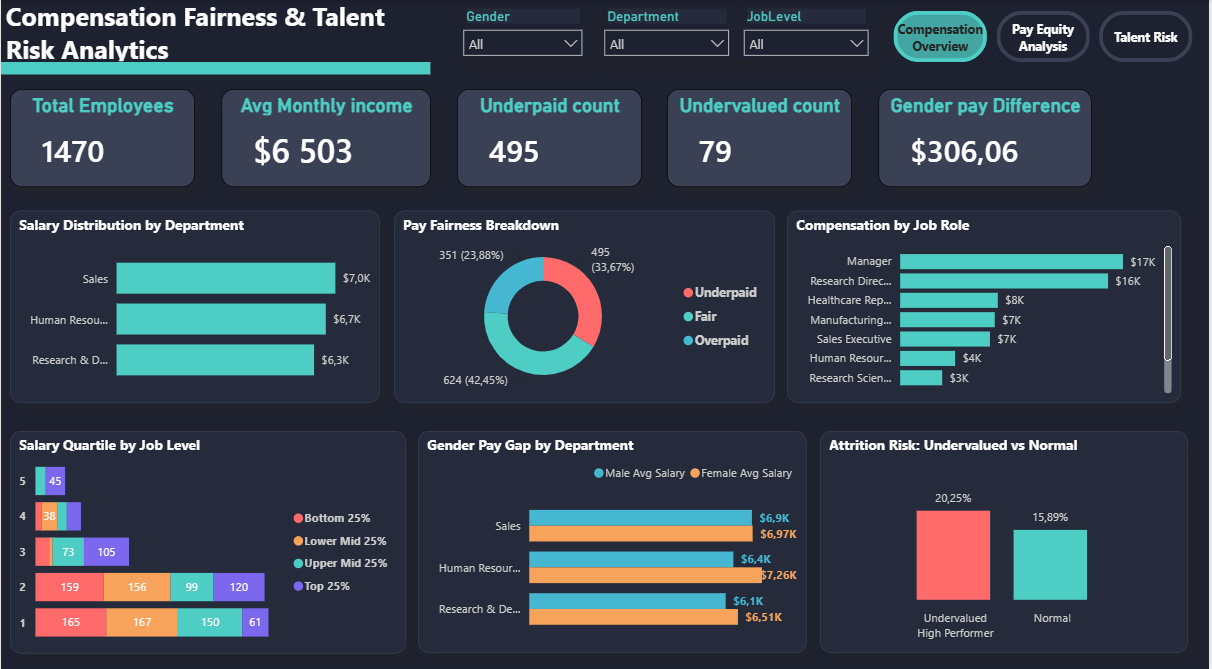

Layout of this report page (visuals, bound fields, positions):
{"tool":"powerbi","page":{"name":"Compensation Overview","canvas":[1280,720],"ordinal":0},"visuals":[{"type":"textbox","title":"Compensation Fairness & Talent Risk Analytics","box":[0,0,455.4,66.1],"z":0},{"type":"cardVisual","title":"Avg Monthly income","fields":{"Data":["_Measures.Avg Monthly Income"]},"box":[233.5,95.9,222,104],"z":1000},{"type":"cardVisual","title":"Underpaid count","fields":{"Data":["_Measures.Underpaid Count"]},"box":[483,95.9,196,104],"z":2000},{"type":"cardVisual","title":"Undervalued count","fields":{"Data":["_Measures.Undervalued Count"]},"box":[706.5,95.9,196,104],"z":3000},{"type":"cardVisual","title":"Gender pay Difference","fields":{"Data":["_Measures.Gender Pay Difference ($)"]},"box":[930,95.9,226,104],"z":4000},{"type":"barChart","title":"Salary Distribution by Department","fields":{"Y":["_Measures.Avg Monthly Income"],"Category":["HR_Compensation.Department"]},"box":[10,224,392,204],"z":5000},{"type":"donutChart","title":"Pay Fairness Breakdown","fields":{"Category":["HR_Compensation.pay_status"],"Y":["_Measures.Total Employees"]},"box":[416,224,404,204],"z":6000},{"type":"clusteredBarChart","title":"Compensation by Job Role","fields":{"Category":["HR_Compensation.JobRole"],"Y":["_Measures.Avg Monthly Income"]},"box":[834,224,418,204],"z":7000},{"type":"barChart","title":"Salary Quartile by Job Level","fields":{"Category":["HR_Compensation.JobLevel"],"Y":["_Measures.Total Employees"],"Series":["HR_Compensation.salary_quartile_label"]},"box":[10,458,420,236],"z":8000},{"type":"clusteredBarChart","title":"Gender Pay Gap by Department","fields":{"Category":["HR_Compensation.Department"],"Y":["_Measures.Male Avg Salary","_Measures.Female Avg Salary"]},"box":[441.7,458.3,411.7,235],"z":9000},{"type":"columnChart","title":"Attrition Risk: Undervalued vs Normal","fields":{"Category":["HR_Compensation.talent_value_flag"],"Y":["_Measures.Overall Attrition Rate"]},"box":[868.3,458.3,390,235],"z":10000},{"type":"slicer","fields":{"Values":["HR_Compensation.Department"]},"box":[630,4,152,58],"z":11000},{"type":"slicer","fields":{"Values":["HR_Compensation.Gender"]},"box":[480,4,146,58],"z":12000},{"type":"slicer","fields":{"Values":["HR_Compensation.JobLevel"]},"box":[778,4,152,58],"z":13000},{"type":"shape","box":[0,66.1,455.4,13.2],"z":14000},{"type":"cardVisual","title":"Total Employees","fields":{"Data":["_Measures.Total Employees"]},"box":[10,95.9,196,104],"z":15000},{"type":"pageNavigator","title":"page 1 ","box":[946,12,318,54],"z":16000}]}

Visuals, with their boxes in screenshot pixels (x1, y1, x2, y2), scaled from the page's 1280x720 canvas onto the 1212x669 screenshot:
"Compensation Fairness & Talent Risk Analytics" textbox: box=[0, 0, 431, 61]
"Avg Monthly income" cardVisual: box=[221, 89, 431, 186]
"Underpaid count" cardVisual: box=[457, 89, 643, 186]
"Undervalued count" cardVisual: box=[669, 89, 855, 186]
"Gender pay Difference" cardVisual: box=[881, 89, 1095, 186]
"Salary Distribution by Department" barChart: box=[9, 208, 381, 398]
"Pay Fairness Breakdown" donutChart: box=[394, 208, 776, 398]
"Compensation by Job Role" clusteredBarChart: box=[790, 208, 1185, 398]
"Salary Quartile by Job Level" barChart: box=[9, 426, 407, 645]
"Gender Pay Gap by Department" clusteredBarChart: box=[418, 426, 808, 644]
"Attrition Risk: Undervalued vs Normal" columnChart: box=[822, 426, 1191, 644]
slicer - HR_Compensation.Department: box=[597, 4, 740, 58]
slicer - HR_Compensation.Gender: box=[454, 4, 593, 58]
slicer - HR_Compensation.JobLevel: box=[737, 4, 881, 58]
shape: box=[0, 61, 431, 74]
"Total Employees" cardVisual: box=[9, 89, 195, 186]
"page 1 " pageNavigator: box=[896, 11, 1197, 61]
